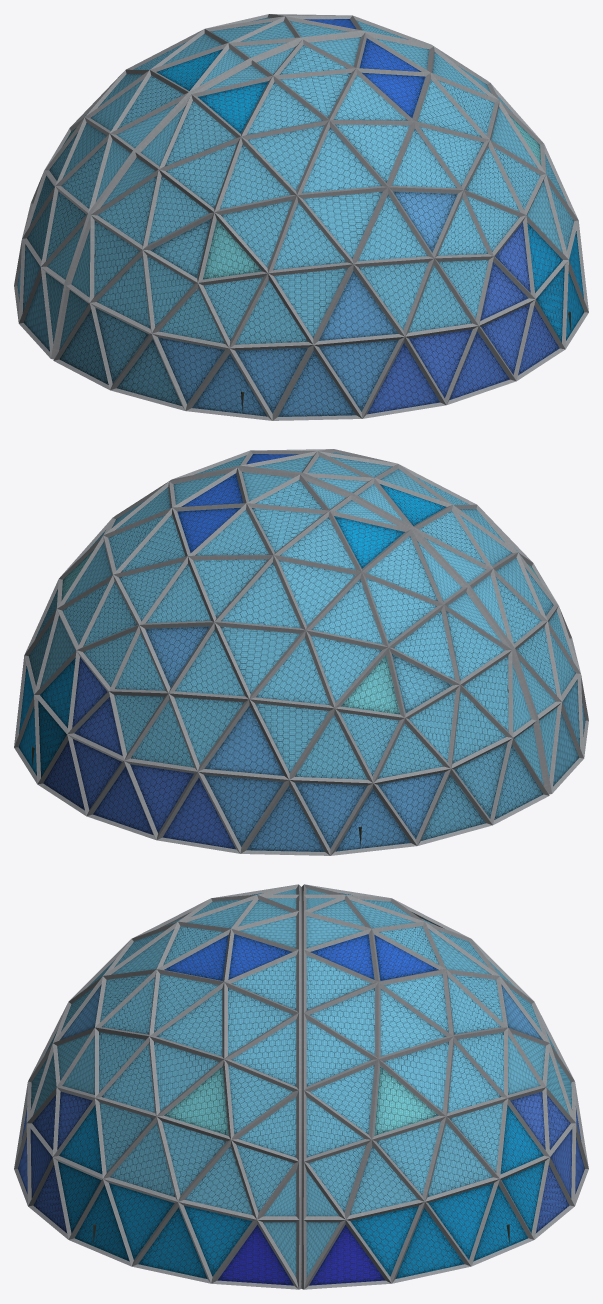
File: MusicFestival.fbx
3 views of the same model, one above another, from view 1: azimuth 30°, elevation 25°; view 2: azimuth 150°, elevation 25°; view 3: azimuth 270°, elevation 25° (orthographic).
Visible parts, largest first — view 1: Object_4, Object_4.001; view 2: Object_4, Object_4.001; view 3: Object_4, Object_4.001.
Part boxes in pixels (x1,y1,x2,y2): Object_4: (14,14,588,420); Object_4.001: (27,17,574,350); Object_4: (14,449,588,855); Object_4.001: (28,452,575,785); Object_4: (14,884,588,1289); Object_4.001: (30,889,572,1277).
Size of the model in its own units: 12730 by 6506 by 12830.
